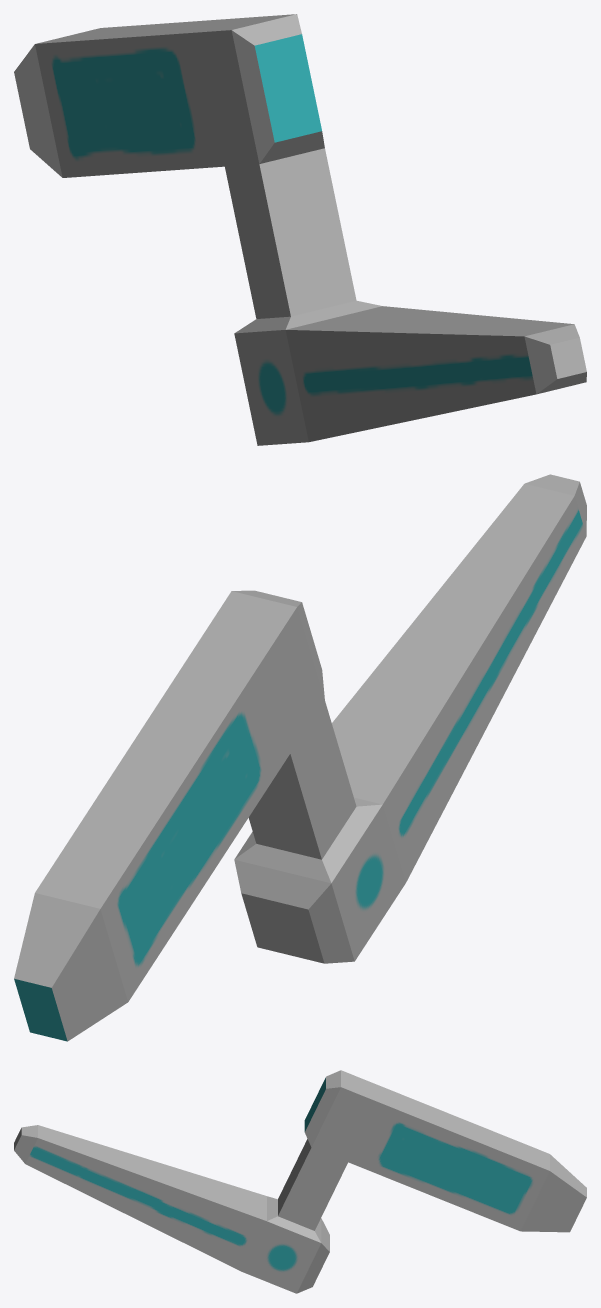
The model's file is weapon3-2.obj.
3 renders of one model, top to bottom at view 1: azimuth 30°, elevation 25°; view 2: azimuth 150°, elevation 25°; view 3: azimuth 270°, elevation 25°, orthographic. The views are drawn at different scales.
Visible parts, largest first — view 1: ArmWeapon3; view 2: ArmWeapon3; view 3: ArmWeapon3.
Part boxes in pixels (bbox=[...]): ArmWeapon3: bbox=[14, 14, 586, 445]; ArmWeapon3: bbox=[14, 474, 586, 1041]; ArmWeapon3: bbox=[14, 1070, 586, 1293].
Size of the model in its own units: 0.967 by 3.63 by 9.29.
1 material, 1 textured.
